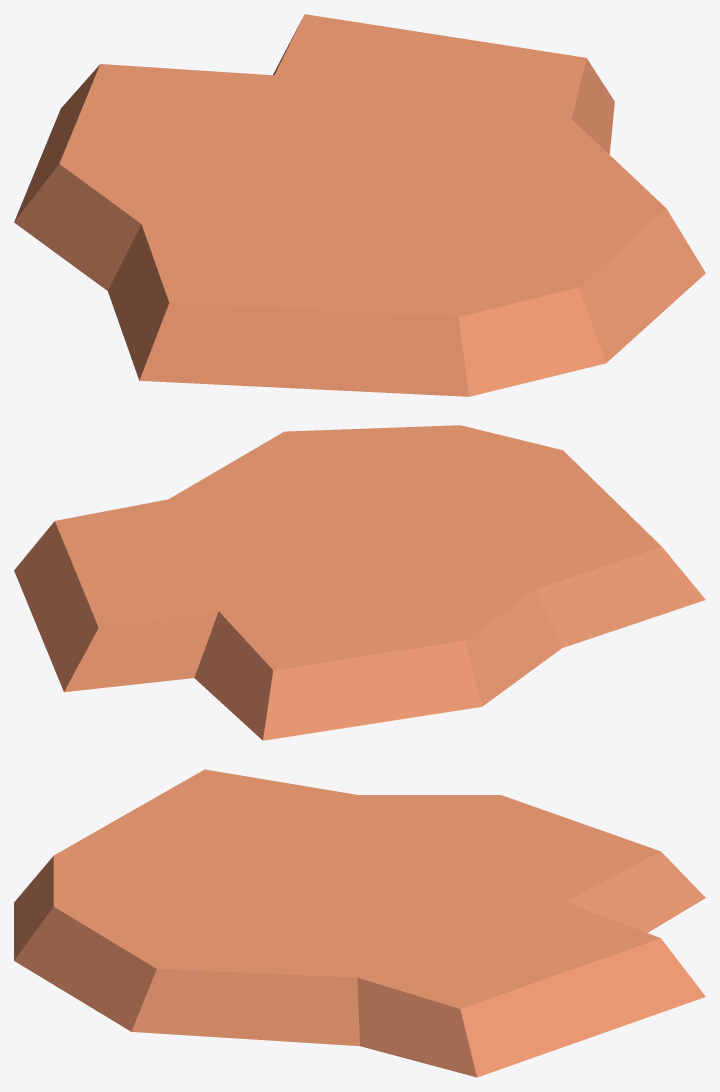
The model's file is Rock022.fbx.
3 views of the same model, one above another, from view 1: azimuth 30°, elevation 25°; view 2: azimuth 150°, elevation 25°; view 3: azimuth 270°, elevation 25° (orthographic). The views are drawn at different scales.
Parts seen in each view (by area): view 1: Rock022; view 2: Rock022; view 3: Rock022.
Part boxes in pixels (x1,y1,x2,y2): Rock022: (14, 14, 705, 396); Rock022: (14, 425, 705, 740); Rock022: (14, 769, 705, 1077).
Size of the model in its own units: 125 by 11.23 by 134.
